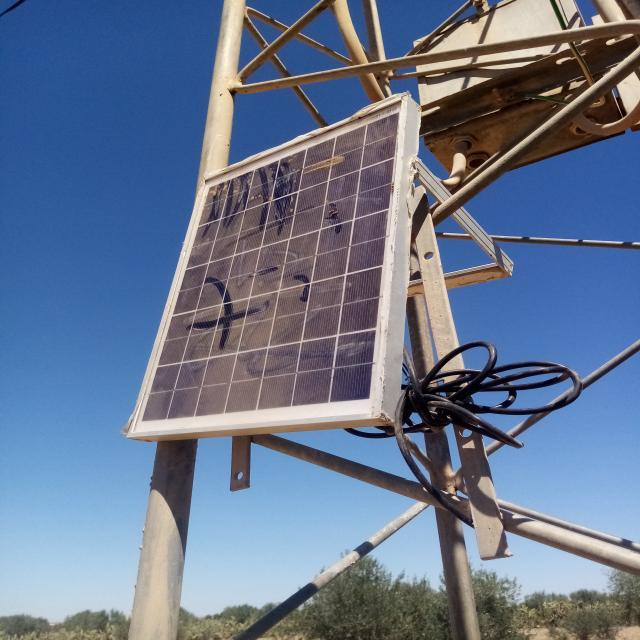faulty: (129, 97, 404, 433)
